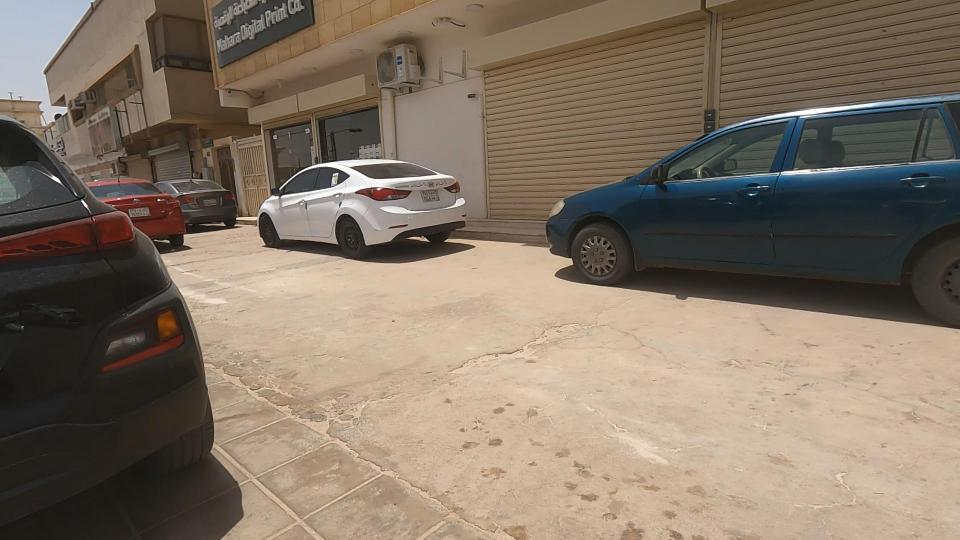BAD_BILLBOARD: (35, 76, 177, 193)
